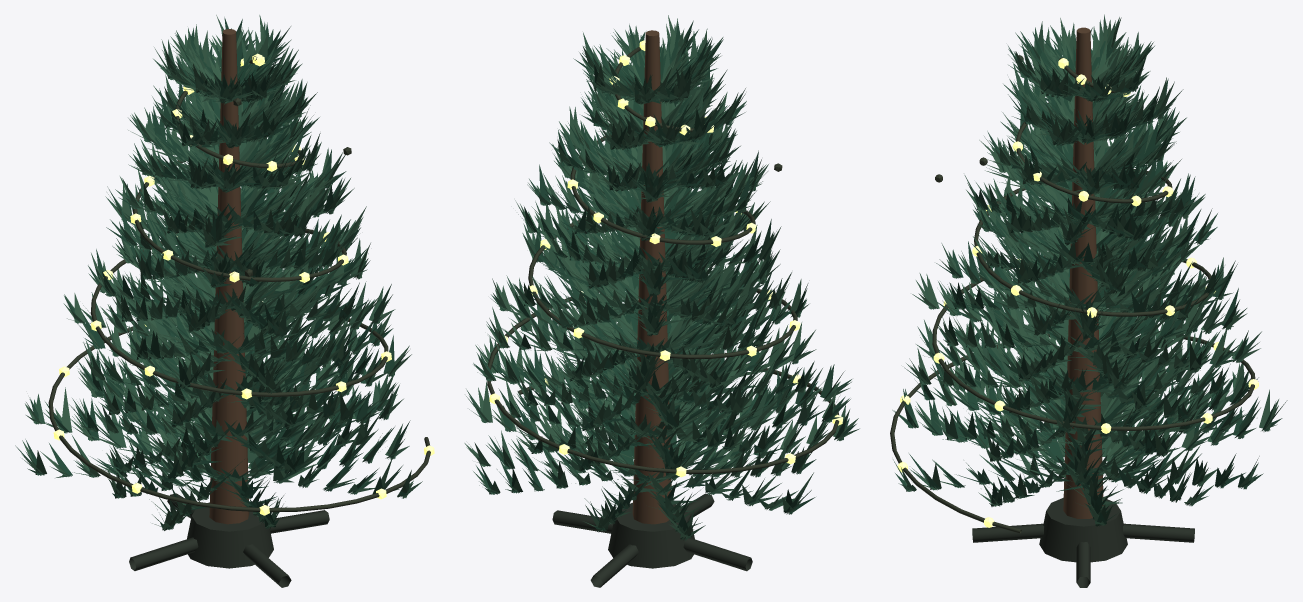
The model's file is guard-tree.glb.
3 renders of one model, left to right at view 1: azimuth 30°, elevation 25°; view 2: azimuth 150°, elevation 25°; view 3: azimuth 270°, elevation 25°, orthographic.
Parts seen in each view (by area): view 1: Tree_boughs, Tree_trunk, Tree_garland_wire, Tree_foot, Stand_arm.002, Stand_arm, BULBS_19, BULBS_07, Stand_arm.001; view 2: Tree_boughs, Tree_trunk, Tree_garland_wire, Tree_foot, Stand_arm.002, BULBS_19, Stand_arm.003, Stand_arm, BULBS_26, BULBS_07; view 3: Tree_boughs, Tree_trunk, Tree_garland_wire, Tree_foot, Stand_arm.003, Stand_arm.001, BULBS_07, Stand_arm, BULBS_26, BULBS_19.
Boxes of the visible parts, x1=… form: Tree_boughs: x1=15, y1=15, x2=422, y2=530; Tree_trunk: x1=209, y1=29, x2=249, y2=524; Tree_garland_wire: x1=48, y1=56, x2=430, y2=512; Tree_foot: x1=187, y1=502, x2=273, y2=568; Stand_arm.002: x1=129, y1=537, x2=198, y2=570; Stand_arm: x1=269, y1=510, x2=329, y2=533; BULBS_19: x1=91, y1=175, x2=348, y2=376; BULBS_07: x1=53, y1=301, x2=434, y2=515; Stand_arm.001: x1=243, y1=544, x2=291, y2=587; Tree_boughs: x1=464, y1=15, x2=859, y2=540; Tree_trunk: x1=632, y1=30, x2=671, y2=524; Tree_garland_wire: x1=487, y1=46, x2=839, y2=473; Tree_foot: x1=608, y1=502, x2=694, y2=568; Stand_arm.002: x1=683, y1=538, x2=752, y2=571; BULBS_19: x1=529, y1=211, x2=800, y2=360; Stand_arm.003: x1=590, y1=544, x2=638, y2=587; Stand_arm: x1=552, y1=510, x2=612, y2=533; BULBS_26: x1=567, y1=40, x2=714, y2=189; BULBS_07: x1=489, y1=290, x2=843, y2=477; Tree_boughs: x1=892, y1=14, x2=1287, y2=526; Tree_trunk: x1=1063, y1=27, x2=1103, y2=518; Tree_garland_wire: x1=890, y1=57, x2=1255, y2=533; Tree_foot: x1=1039, y1=497, x2=1127, y2=562; Stand_arm.003: x1=1123, y1=523, x2=1194, y2=542; Stand_arm.001: x1=972, y1=523, x2=1043, y2=542; BULBS_07: x1=897, y1=301, x2=1258, y2=527; Stand_arm: x1=1076, y1=542, x2=1090, y2=587; BULBS_26: x1=1012, y1=58, x2=1141, y2=206; BULBS_19: x1=972, y1=186, x2=1215, y2=317.
Size of the model in its own units: 1.51 by 2.04 by 1.44.
